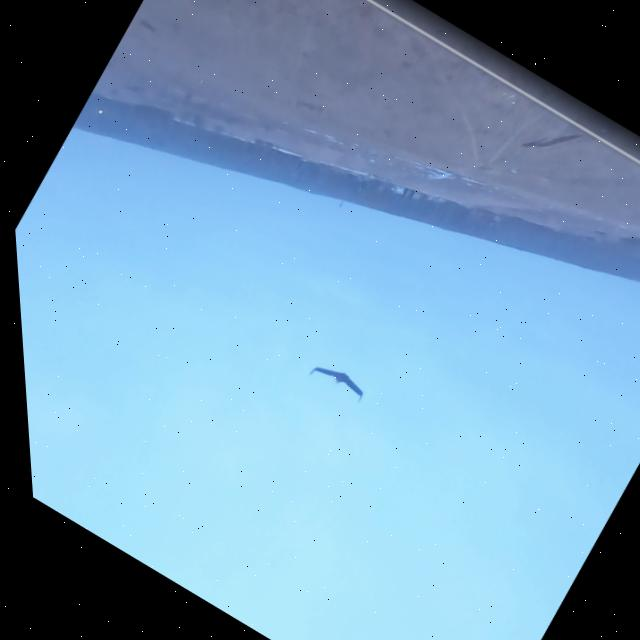planedrone: (301, 352, 373, 410)
